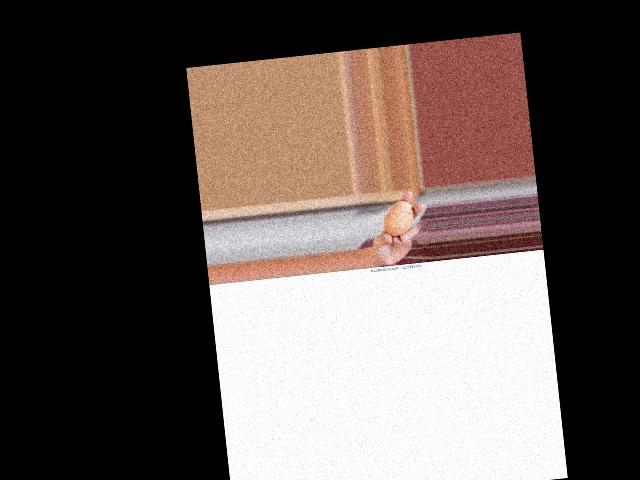egg: (382, 199, 416, 237)
